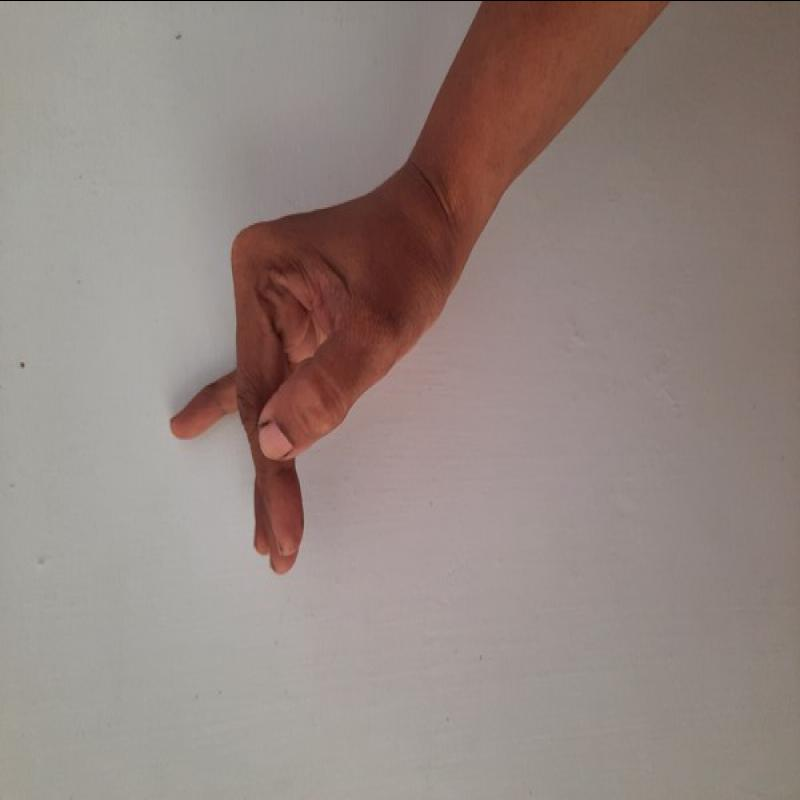Kartharee Mukham: (170, 158, 475, 586)
